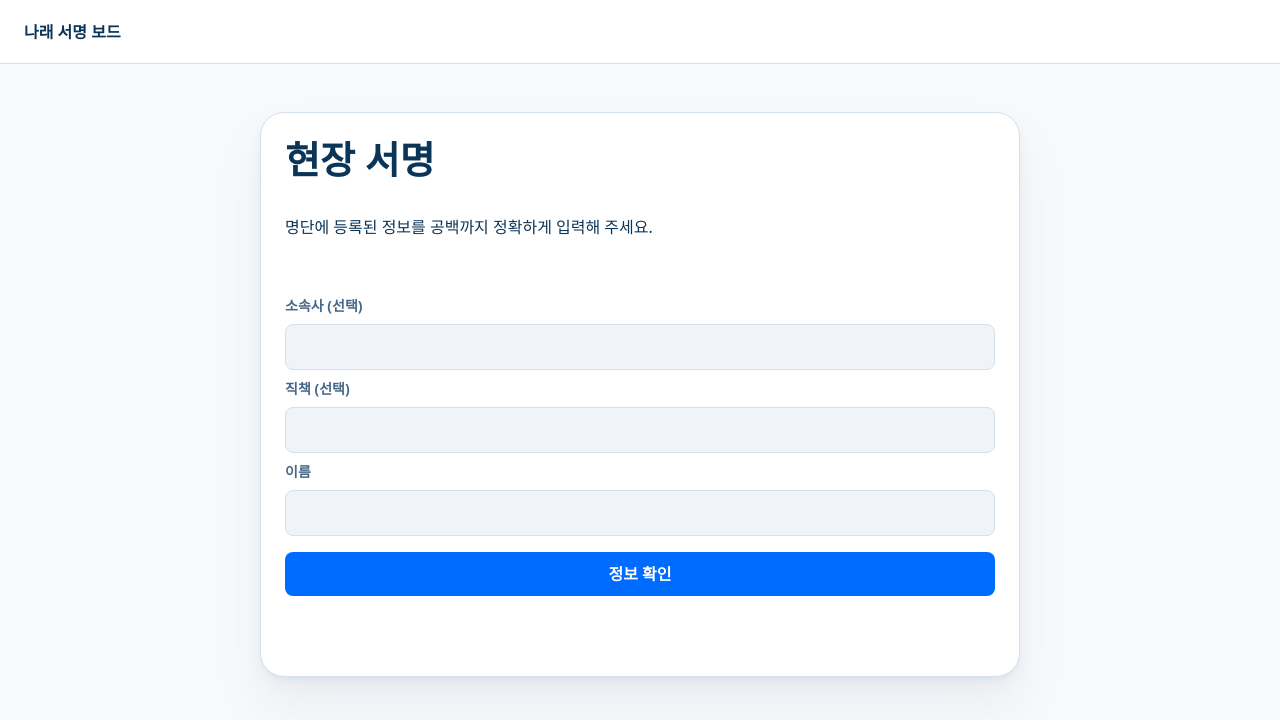
Scenario: shows the entered signer identity above the pad after successful identification
The width and height of the screenshot is (1280, 720).
expect the element with test id "public-signer-identify" is shown: met, box [260,112,1020,677]
In the field labelled "소속사 (선택)": (640,347) [285,324,995,370], type "나래미디어"
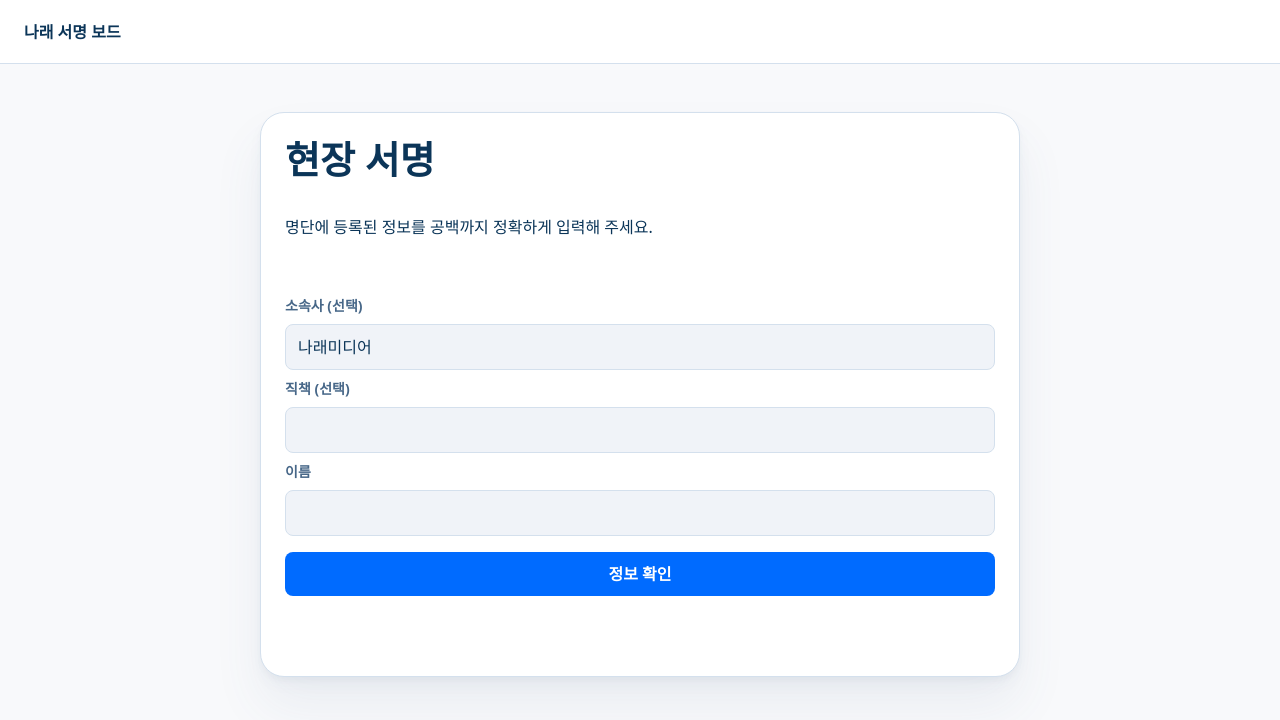
In the field labelled "직책 (선택)": (640,430) [285,407,995,453], type "부장"
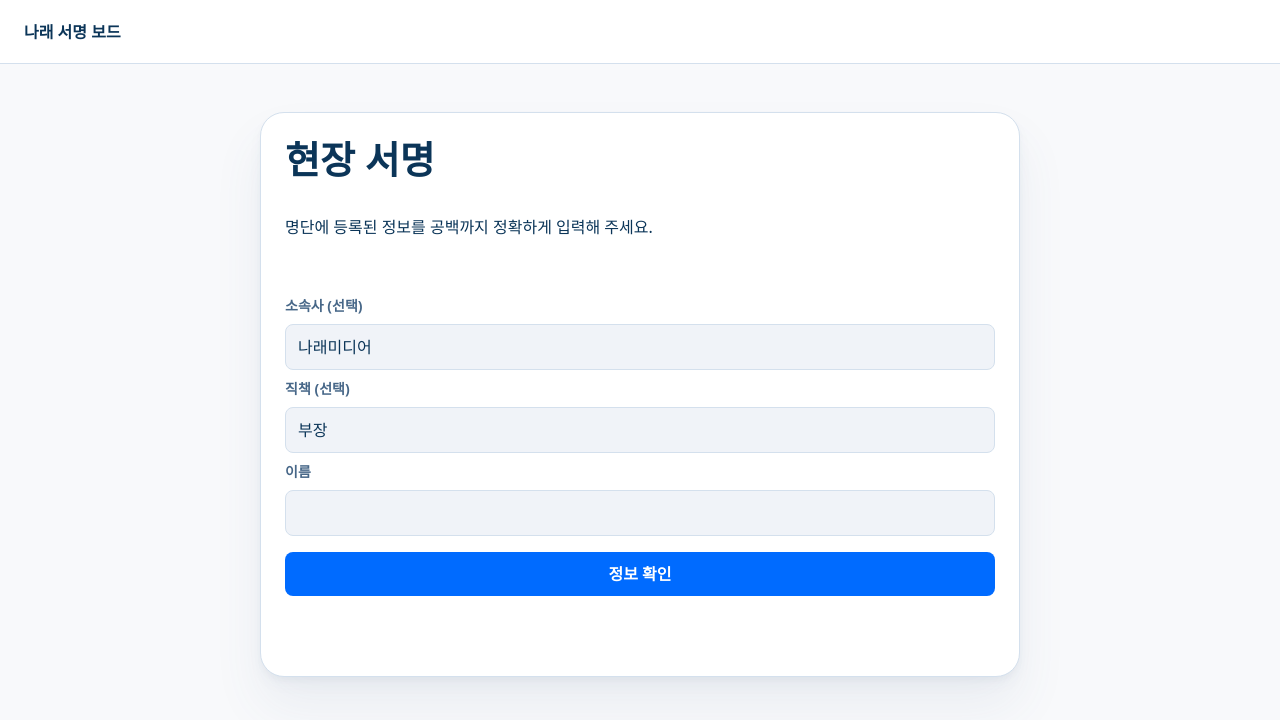
In the field labelled "이름": (640,513) [285,490,995,536], type "홍길동"
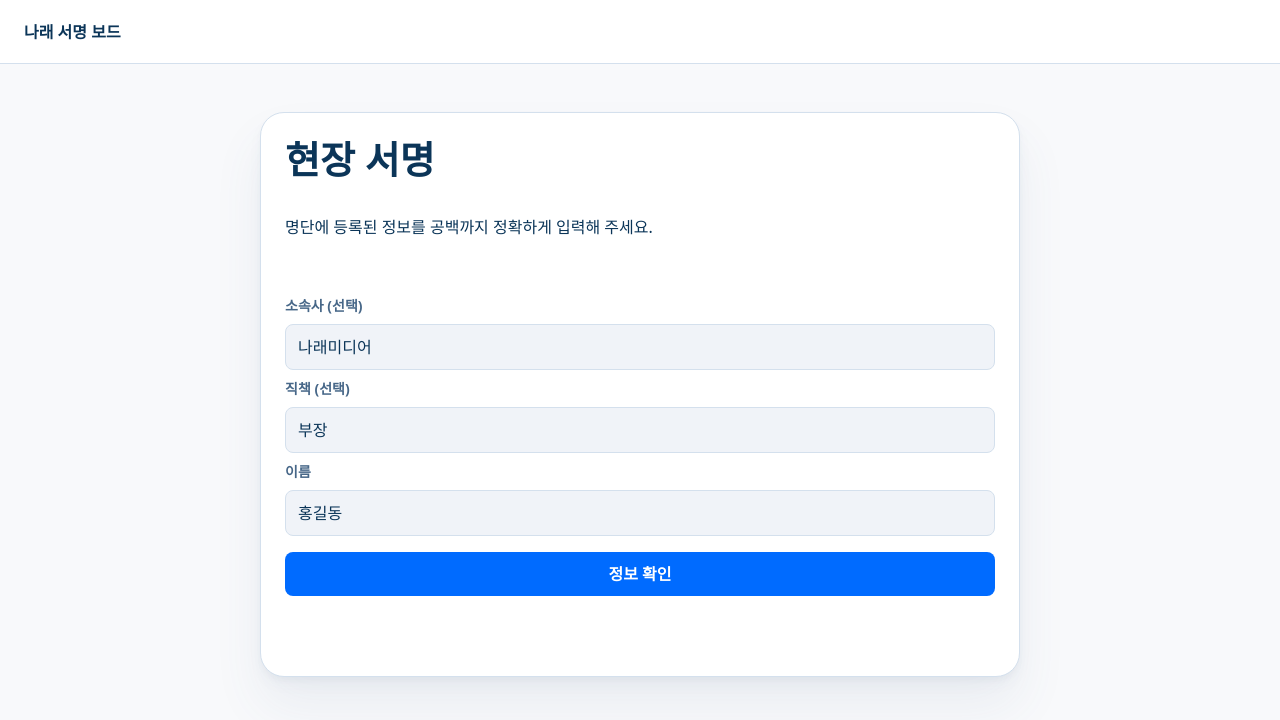
Click the button "정보 확인": (640,574) [285,552,995,596]
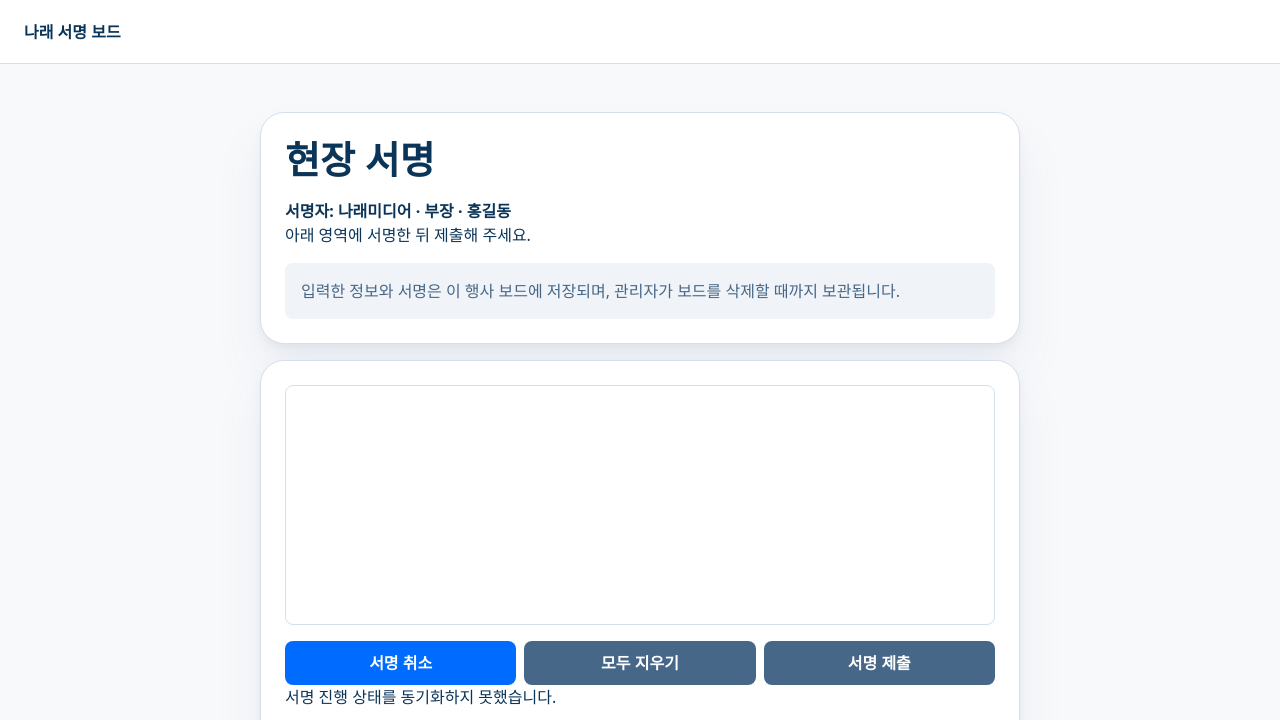
expect the text with test id "public-signer-identity" reads "서명자: 나래미디어 · 부장 · 홍길동": met, box [285,200,511,222]
